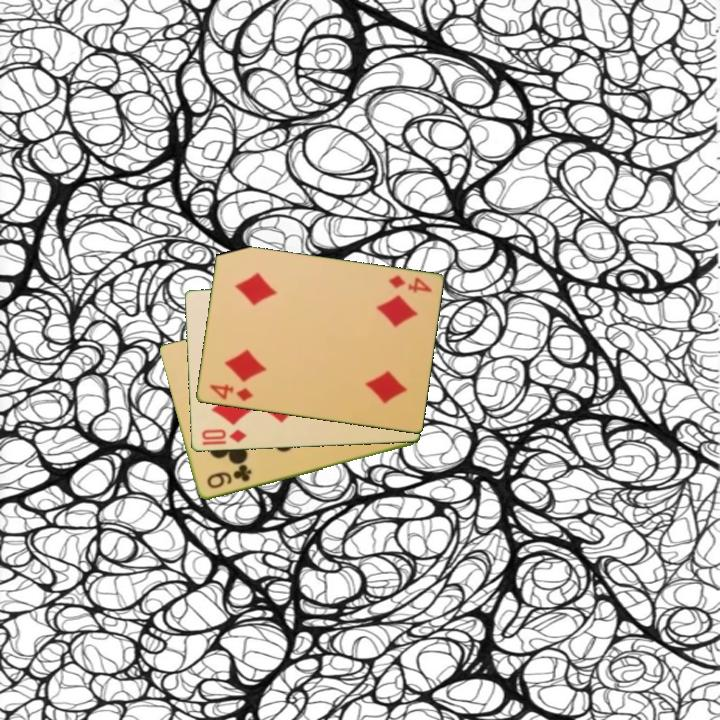10d: (198, 426, 249, 446)
4d: (384, 271, 435, 296), (206, 381, 256, 404)
9c: (203, 463, 255, 492)
